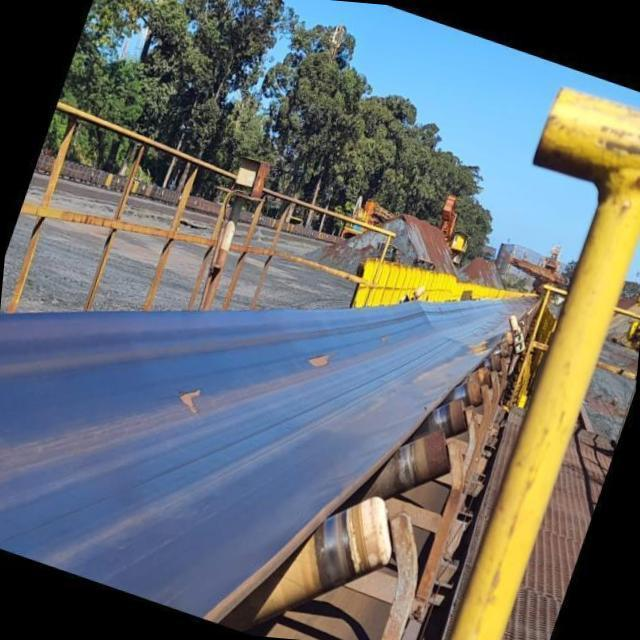Tear: (163, 385, 212, 424), (301, 341, 342, 382)
